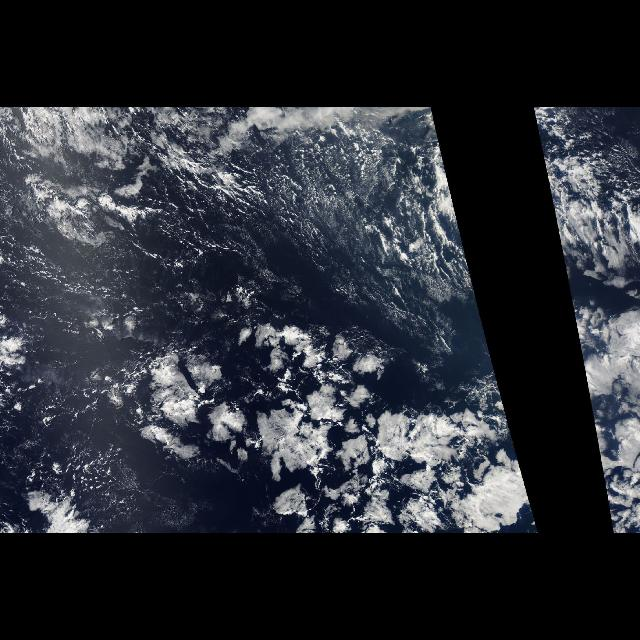Flower: (113, 314, 475, 532)
Sugar: (138, 130, 394, 306)
